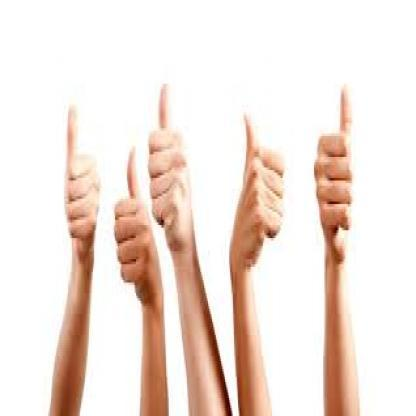thumb_up: (312, 80, 360, 262), (146, 74, 196, 243), (237, 104, 285, 267), (57, 96, 102, 258), (110, 143, 154, 304)
